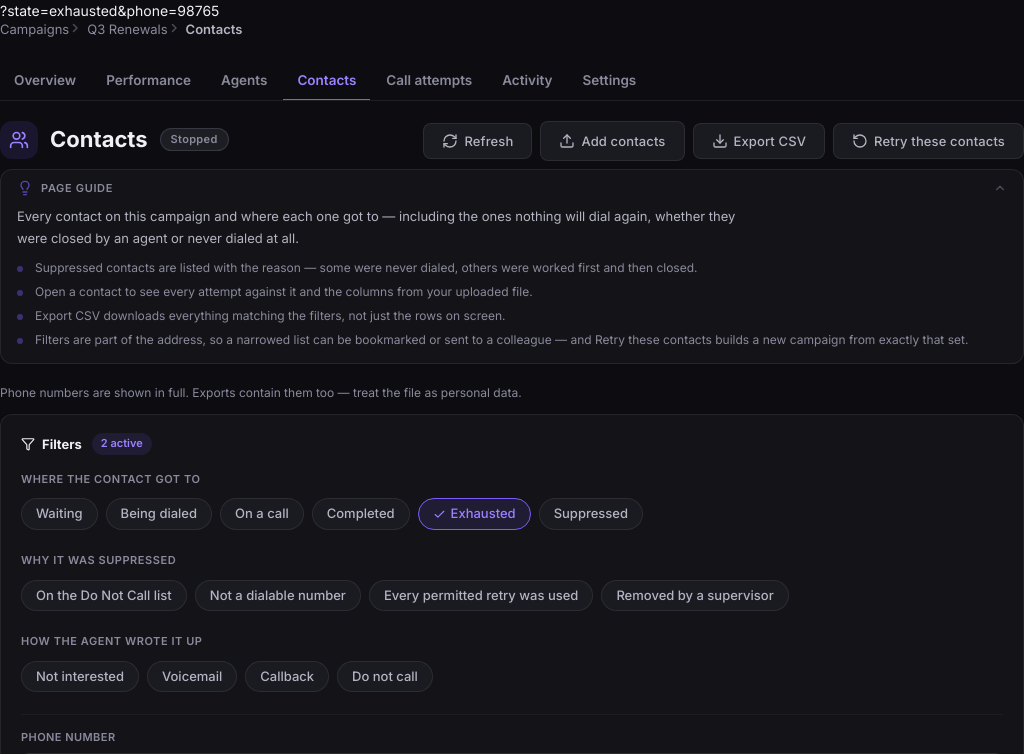
Test case: Retry these contacts › strips phone before building the selector, and says it did
The width and height of the screenshot is (1024, 754).
Click the button with test id "roster-retry-action": point(929, 141) 833,123 -> 1023,159
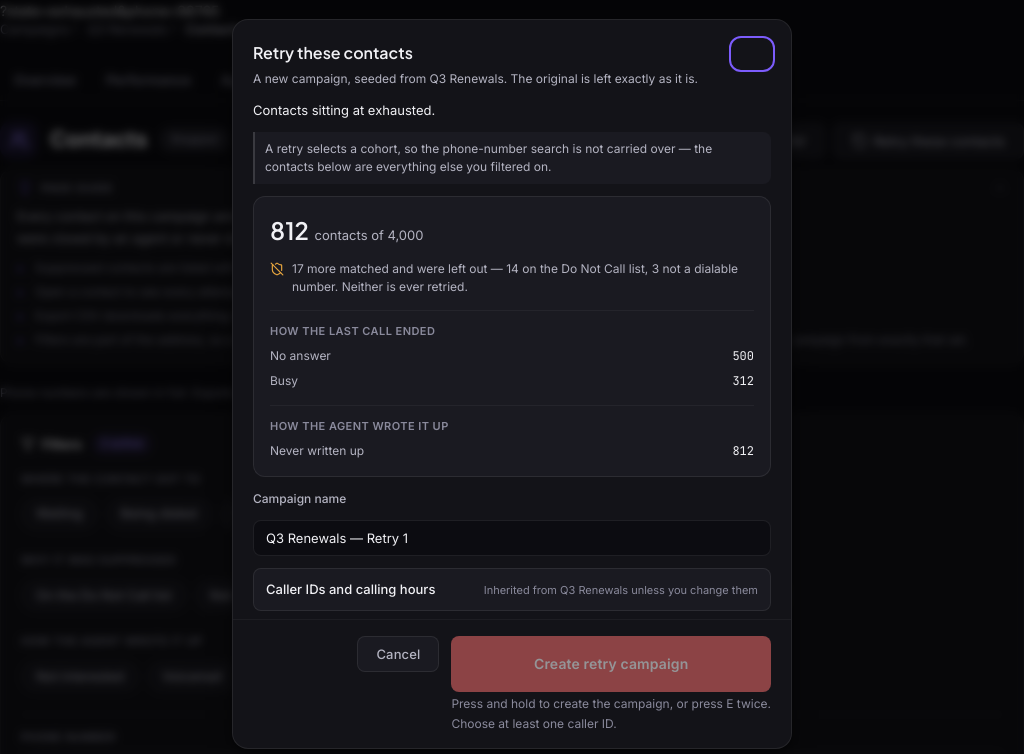
Expected: the text with test id "retry-dropped-filters" shows "phone-number search", 265,141 -> 712,174
